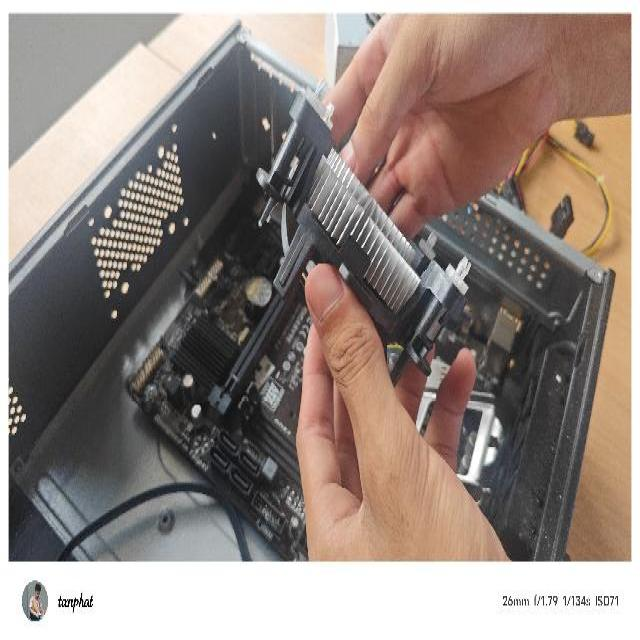CPU_Fan: (257, 77, 473, 384)
